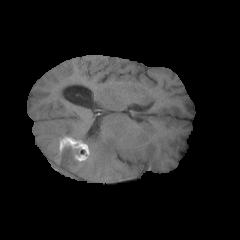glioma: (42, 126, 123, 175)
